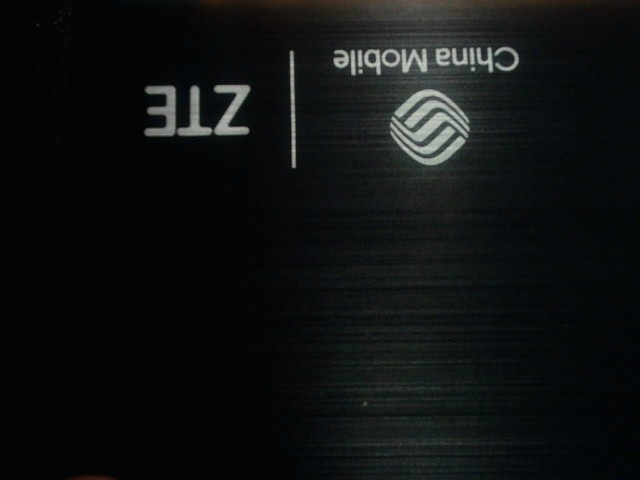AL_ZTEChinaMobile: (113, 24, 544, 176)
